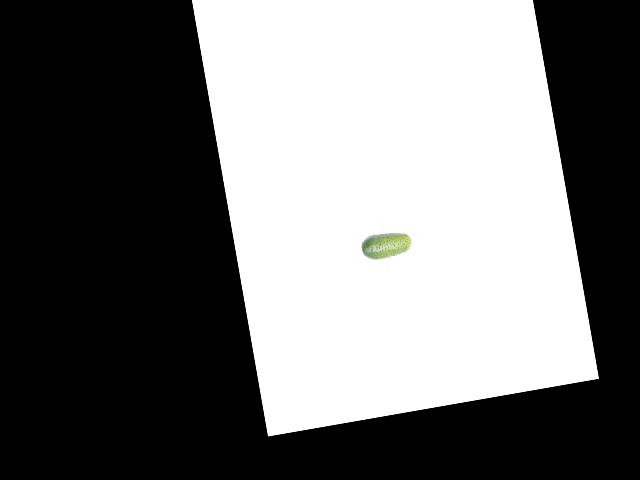cucumber: (359, 228, 413, 262)
